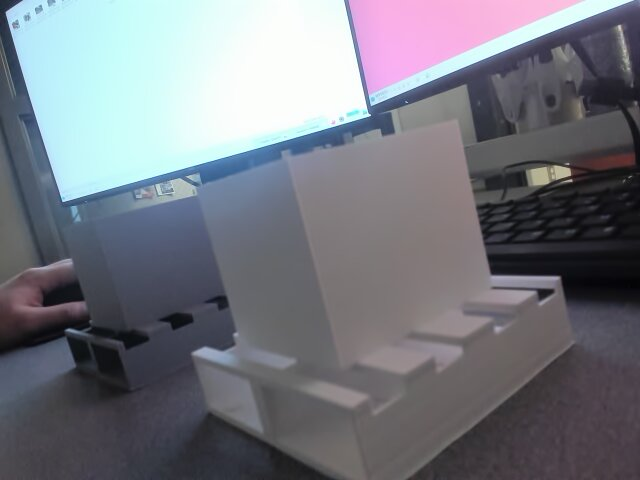grey pallet: (46, 189, 253, 395)
white pallet: (187, 109, 579, 480)
